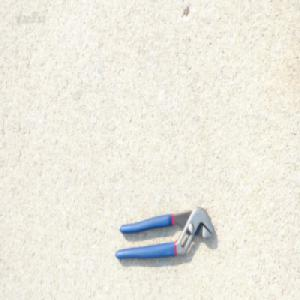Pliers: (114, 205, 216, 260)
